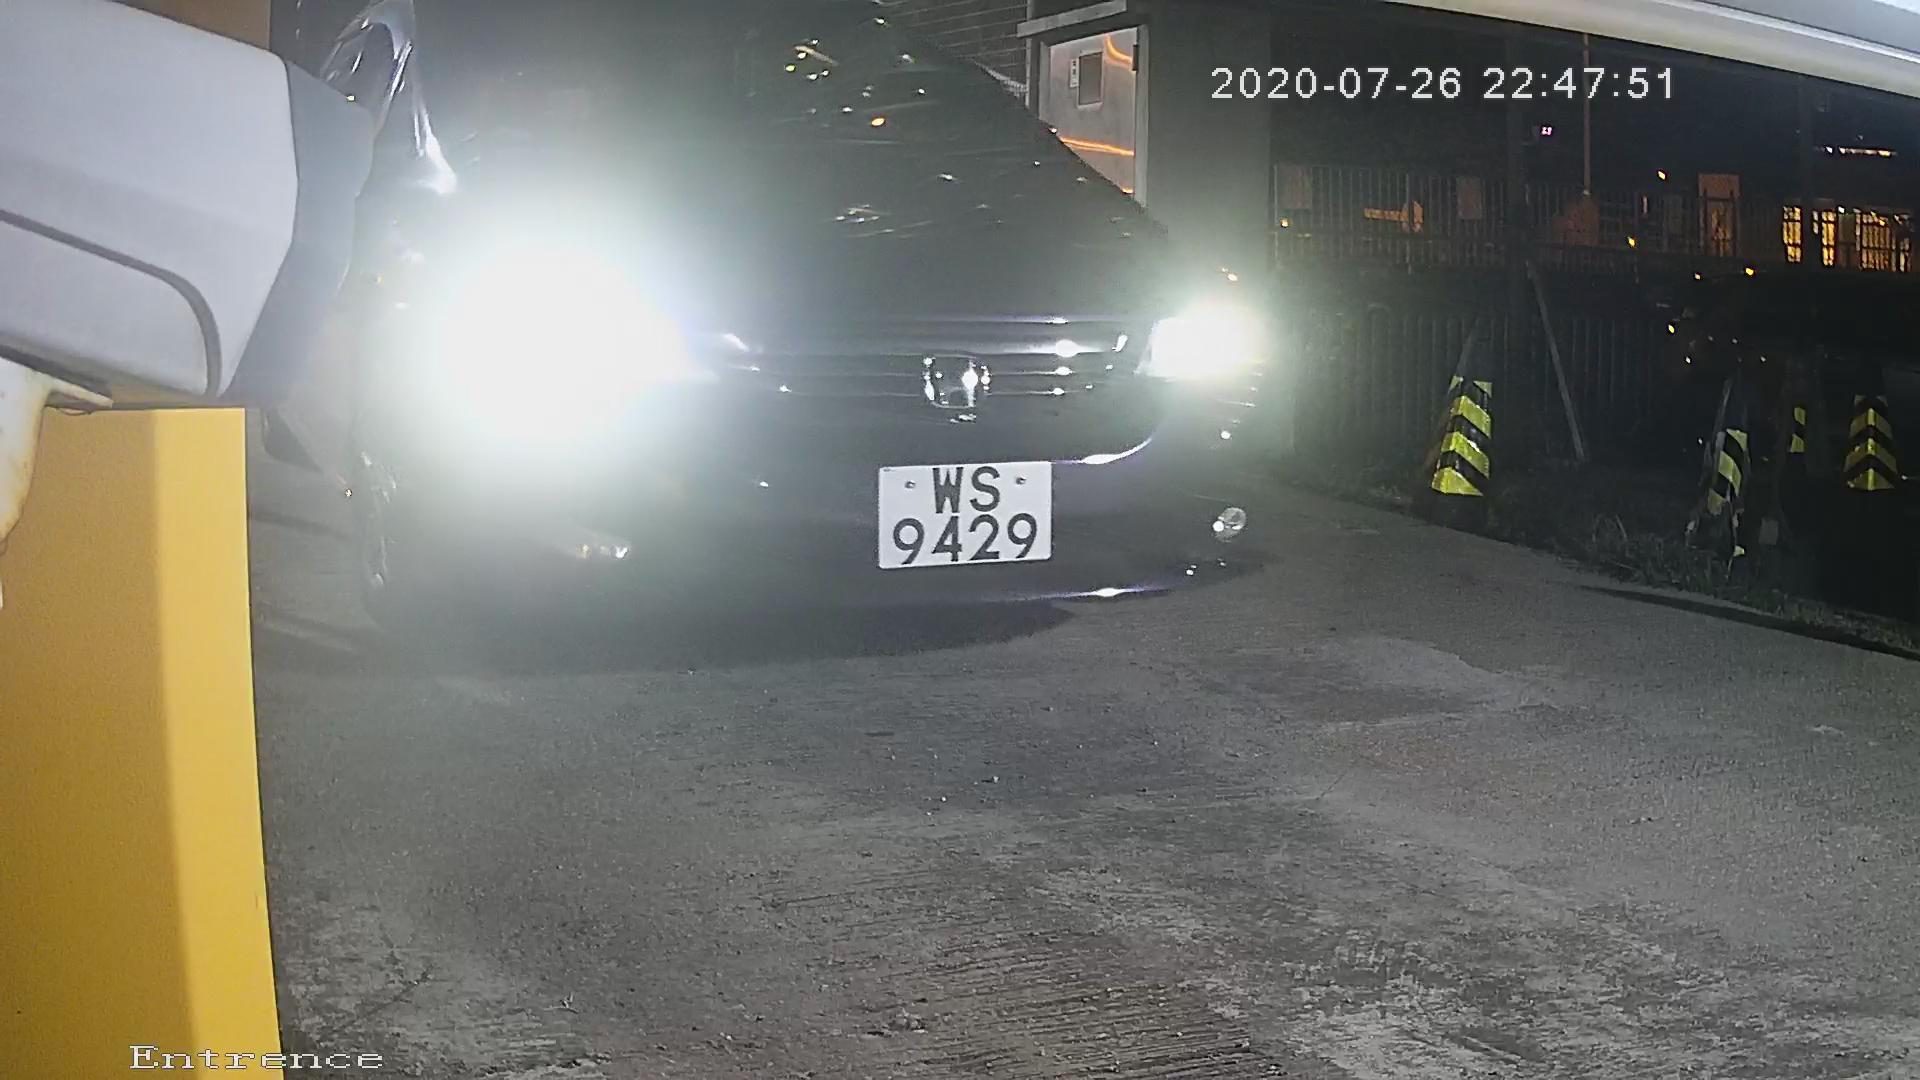License Plate: (858, 444, 1063, 584)
